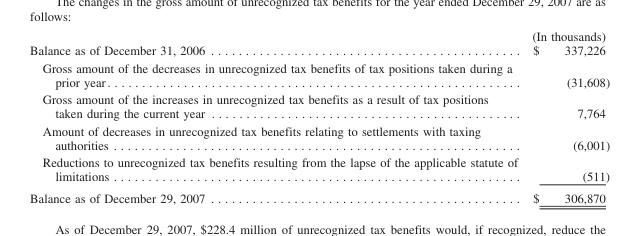table: (29, 28, 609, 204)
table column: (29, 28, 524, 204), (524, 28, 609, 204)
table column header: (29, 28, 609, 42)
table row: (29, 153, 609, 186), (29, 58, 609, 90), (29, 121, 609, 153), (29, 90, 609, 121), (29, 186, 609, 204), (29, 42, 609, 58), (29, 28, 609, 42)
